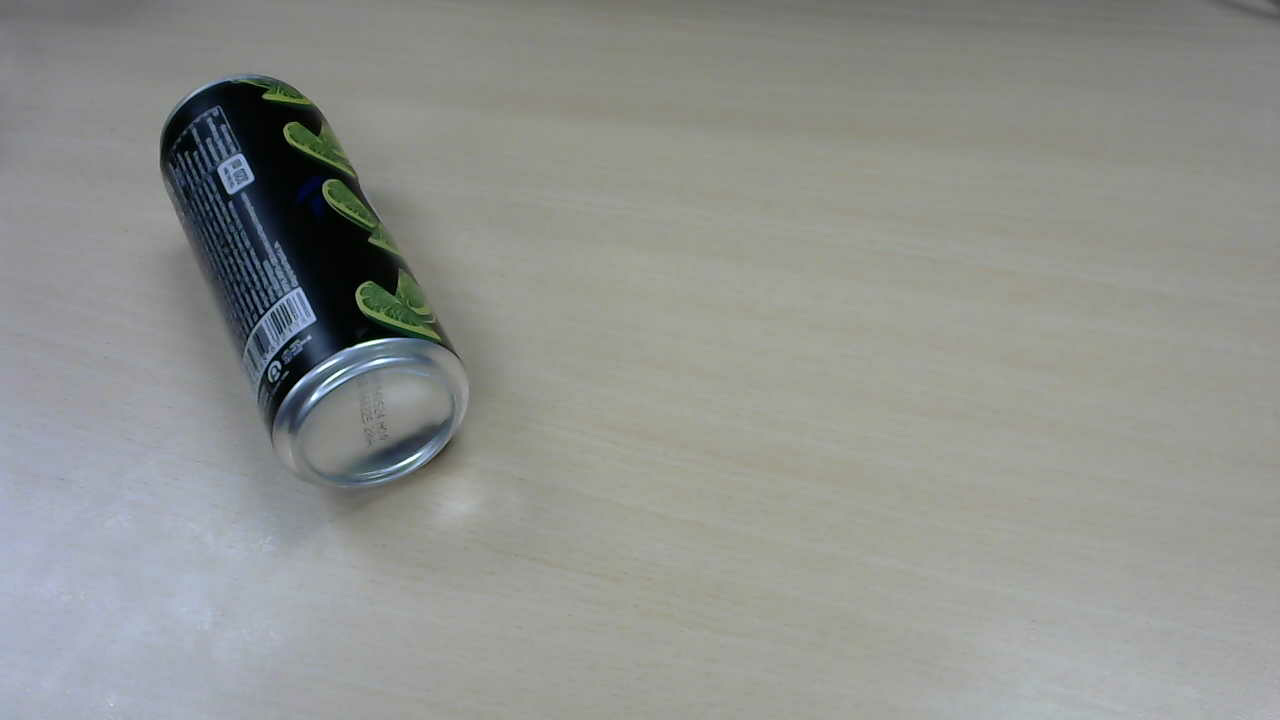Pepsi: (162, 80, 475, 489)
